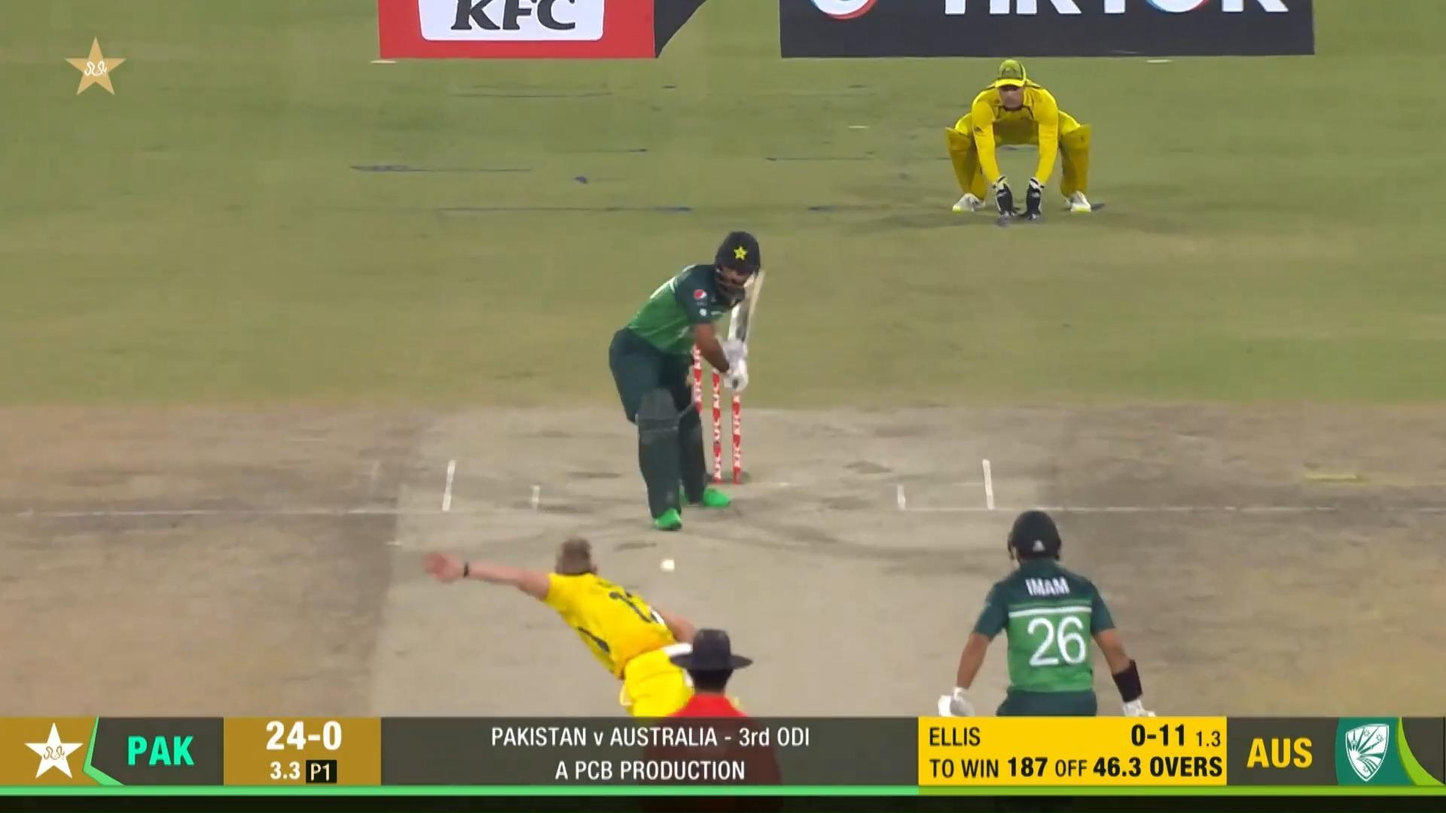BM 1: (608, 230, 769, 532)
BO: (416, 535, 728, 813)
